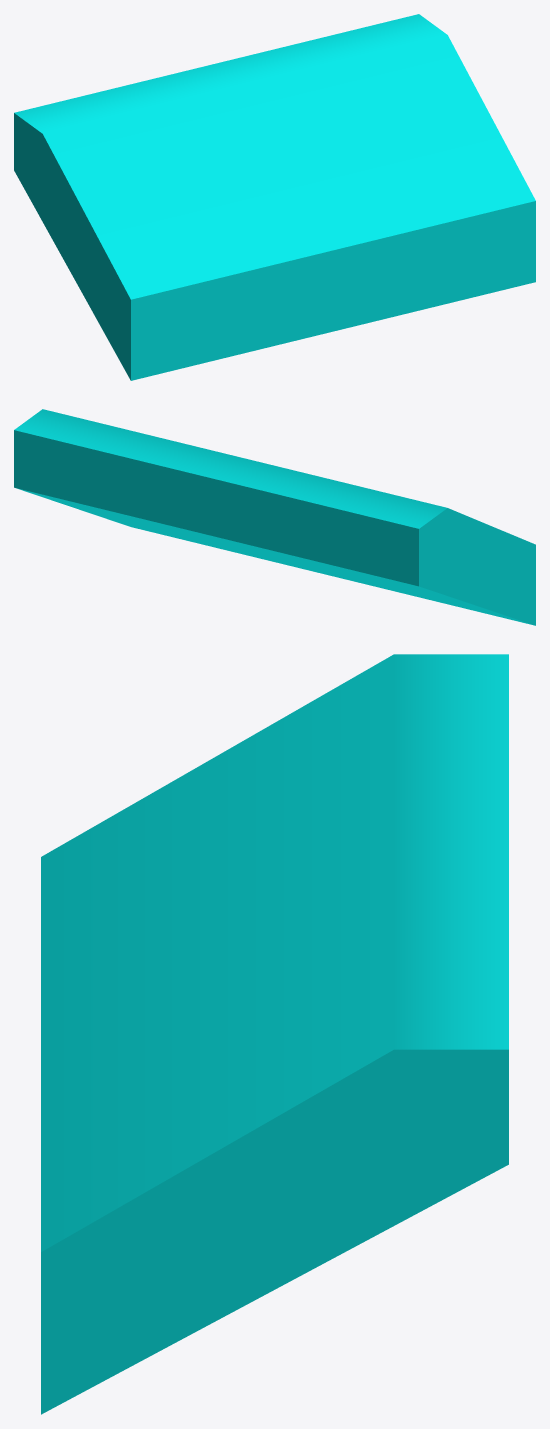
The model's file is SM_Bld_Stair_Half_01_Collision.fbx.
The picture shows the model from 3 angles, top to bottom: view 1: azimuth 30°, elevation 25°; view 2: azimuth 150°, elevation 25°; view 3: azimuth 270°, elevation 25°; orthographic projection. The views are drawn at different scales.
Visible parts, largest first — view 1: SM_Bld_Stair_Half_01_Collision; view 2: SM_Bld_Stair_Half_01_Collision; view 3: SM_Bld_Stair_Half_01_Collision.
Boxes of the visible parts, x1,y1,x2,y2 form: SM_Bld_Stair_Half_01_Collision: (14,14,535,380); SM_Bld_Stair_Half_01_Collision: (14,409,535,625); SM_Bld_Stair_Half_01_Collision: (41,654,508,1414).
Size of the model in its own units: 250 by 108 by 125.
